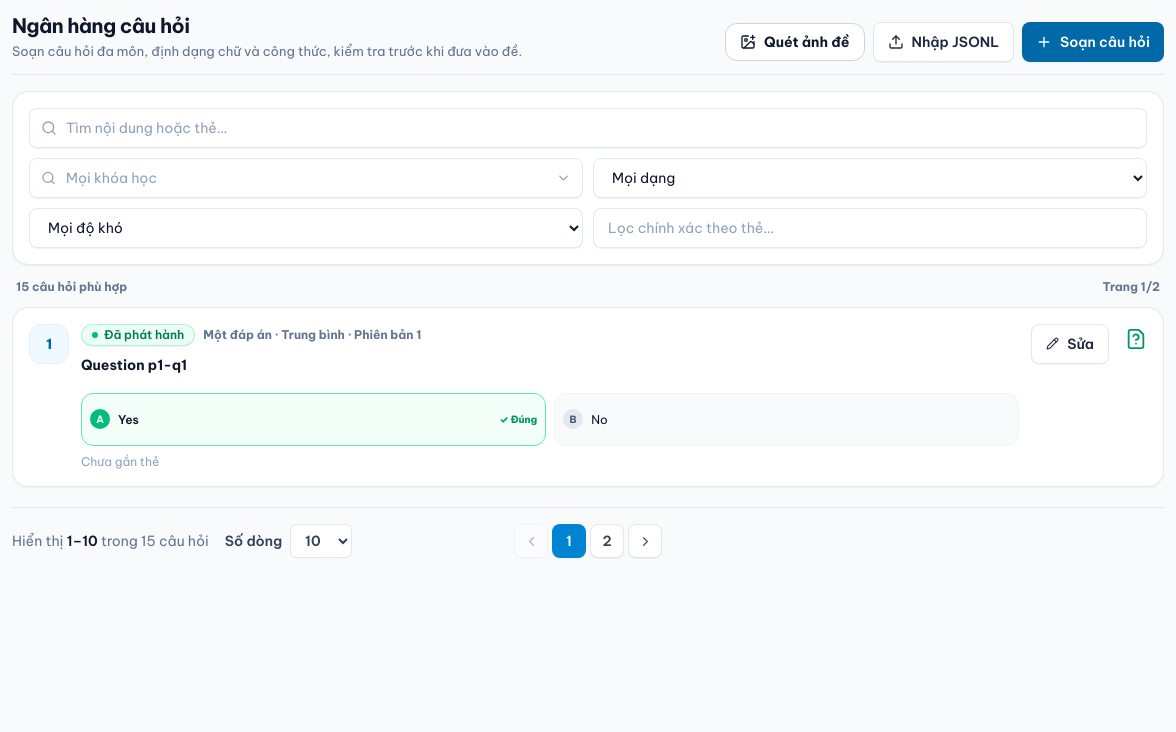
Test: QuestionsPage request lifecycle › requests page 2 from server without refetching /manager/courses
The image size is (1176, 732).
Expected: the text "15 câu hỏi phù hợp" is shown, x1=16 y1=278 x2=127 y2=294
Expected: the text "Trang 1/2" is shown, x1=1102 y1=278 x2=1160 y2=294
Click the button named "Trang sau": click(645, 541) x1=628 y1=524 x2=662 y2=558
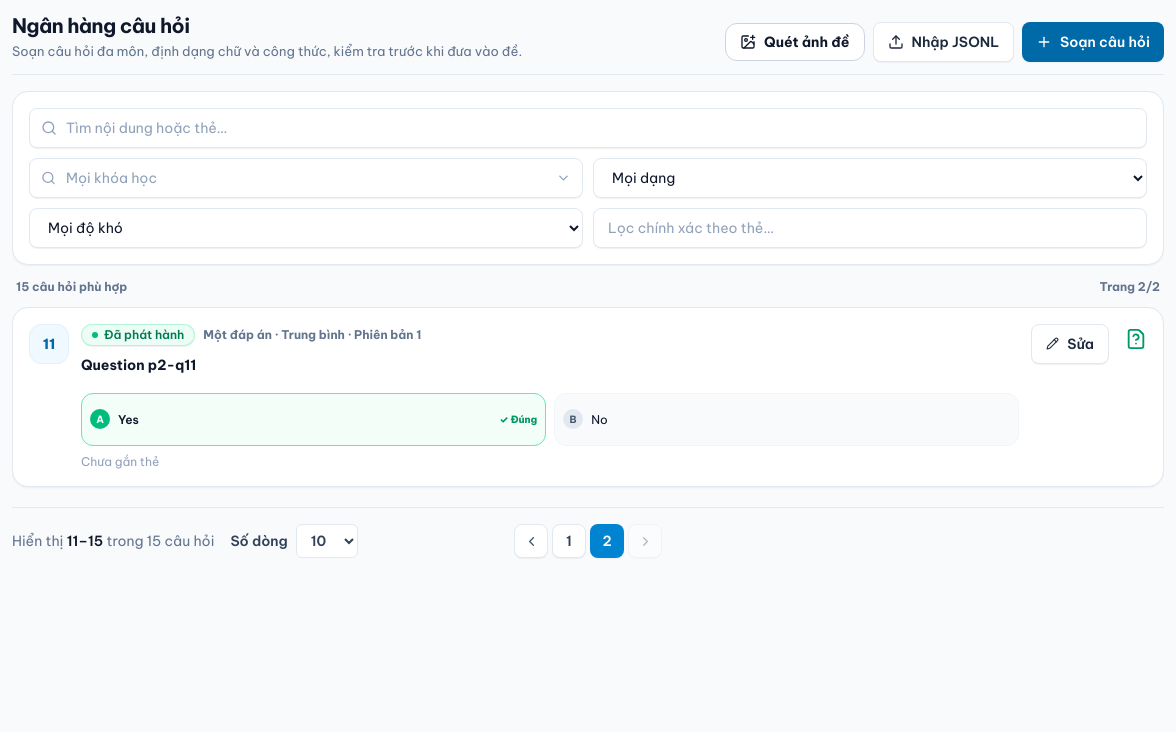
Expected: the text "Question p2-q11" is shown, x1=81 y1=356 x2=196 y2=374
Expected: the text "Trang 2/2" is shown, x1=1100 y1=278 x2=1160 y2=294
